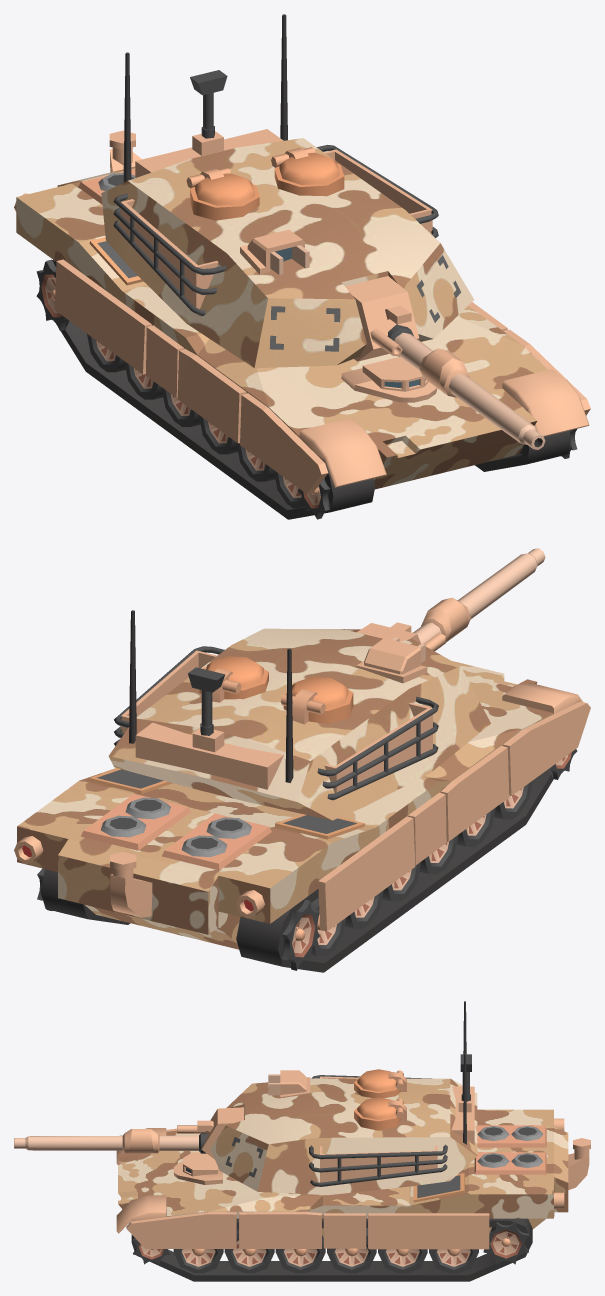
File: Tank_006.glb
The picture shows the model from 3 angles, top to bottom: view 1: azimuth 30°, elevation 25°; view 2: azimuth 150°, elevation 25°; view 3: azimuth 270°, elevation 25°; orthographic projection. The views are drawn at different scales.
Parts seen in each view (by area): view 1: Tank_006, Tank_tower_006, Tank_gun_006, Tank_006_Wheel_R_001.004, Tank_006_Wheel_R_001.003, Tank_006_Wheel_R_001.002, Tank_006_Wheel_R_001.005; view 2: Tank_006, Tank_tower_006, Tank_gun_006, Tank_006_Wheel_R_001.003, Tank_006_Wheel_R_001.002, Tank_006_Wheel_R_001.001, Tank_006_Wheel_R_001.004, Tank_006_Wheel_R_001.005; view 3: Tank_006, Tank_tower_006, Tank_gun_006, Tank_006_Wheel_L_001.004, Tank_006_Wheel_L_001.002, Tank_006_Wheel_L_001.003, Tank_006_Wheel_L_001.005, Tank_006_Wheel_L_001.001.
Part boxes in pixels (x1,y1,x2,y2): Tank_006: (14, 130, 590, 519); Tank_tower_006: (101, 14, 474, 368); Tank_gun_006: (345, 276, 545, 449); Tank_006_Wheel_R_001.004: (161, 387, 200, 426); Tank_006_Wheel_R_001.003: (199, 415, 237, 454); Tank_006_Wheel_R_001.002: (236, 442, 275, 481); Tank_006_Wheel_R_001.005: (124, 361, 163, 399); Tank_006: (14, 661, 590, 972); Tank_tower_006: (108, 610, 490, 820); Tank_gun_006: (357, 548, 545, 651); Tank_006_Wheel_R_001.003: (419, 835, 458, 874); Tank_006_Wheel_R_001.002: (456, 808, 495, 846); Tank_006_Wheel_R_001.001: (494, 780, 532, 819); Tank_006_Wheel_R_001.004: (382, 862, 420, 901); Tank_006_Wheel_R_001.005: (344, 890, 383, 928); Tank_006: (116, 1109, 590, 1281); Tank_tower_006: (210, 1001, 477, 1195); Tank_gun_006: (14, 1107, 244, 1159); Tank_006_Wheel_L_001.004: (327, 1228, 376, 1273); Tank_006_Wheel_L_001.002: (224, 1229, 274, 1273); Tank_006_Wheel_L_001.003: (275, 1235, 325, 1273); Tank_006_Wheel_L_001.005: (378, 1249, 427, 1273); Tank_006_Wheel_L_001.001: (173, 1249, 223, 1273).
Size of the model in its own units: 4.52 by 4.94 by 12.13.
Materials: 2 (2 with a texture image).
